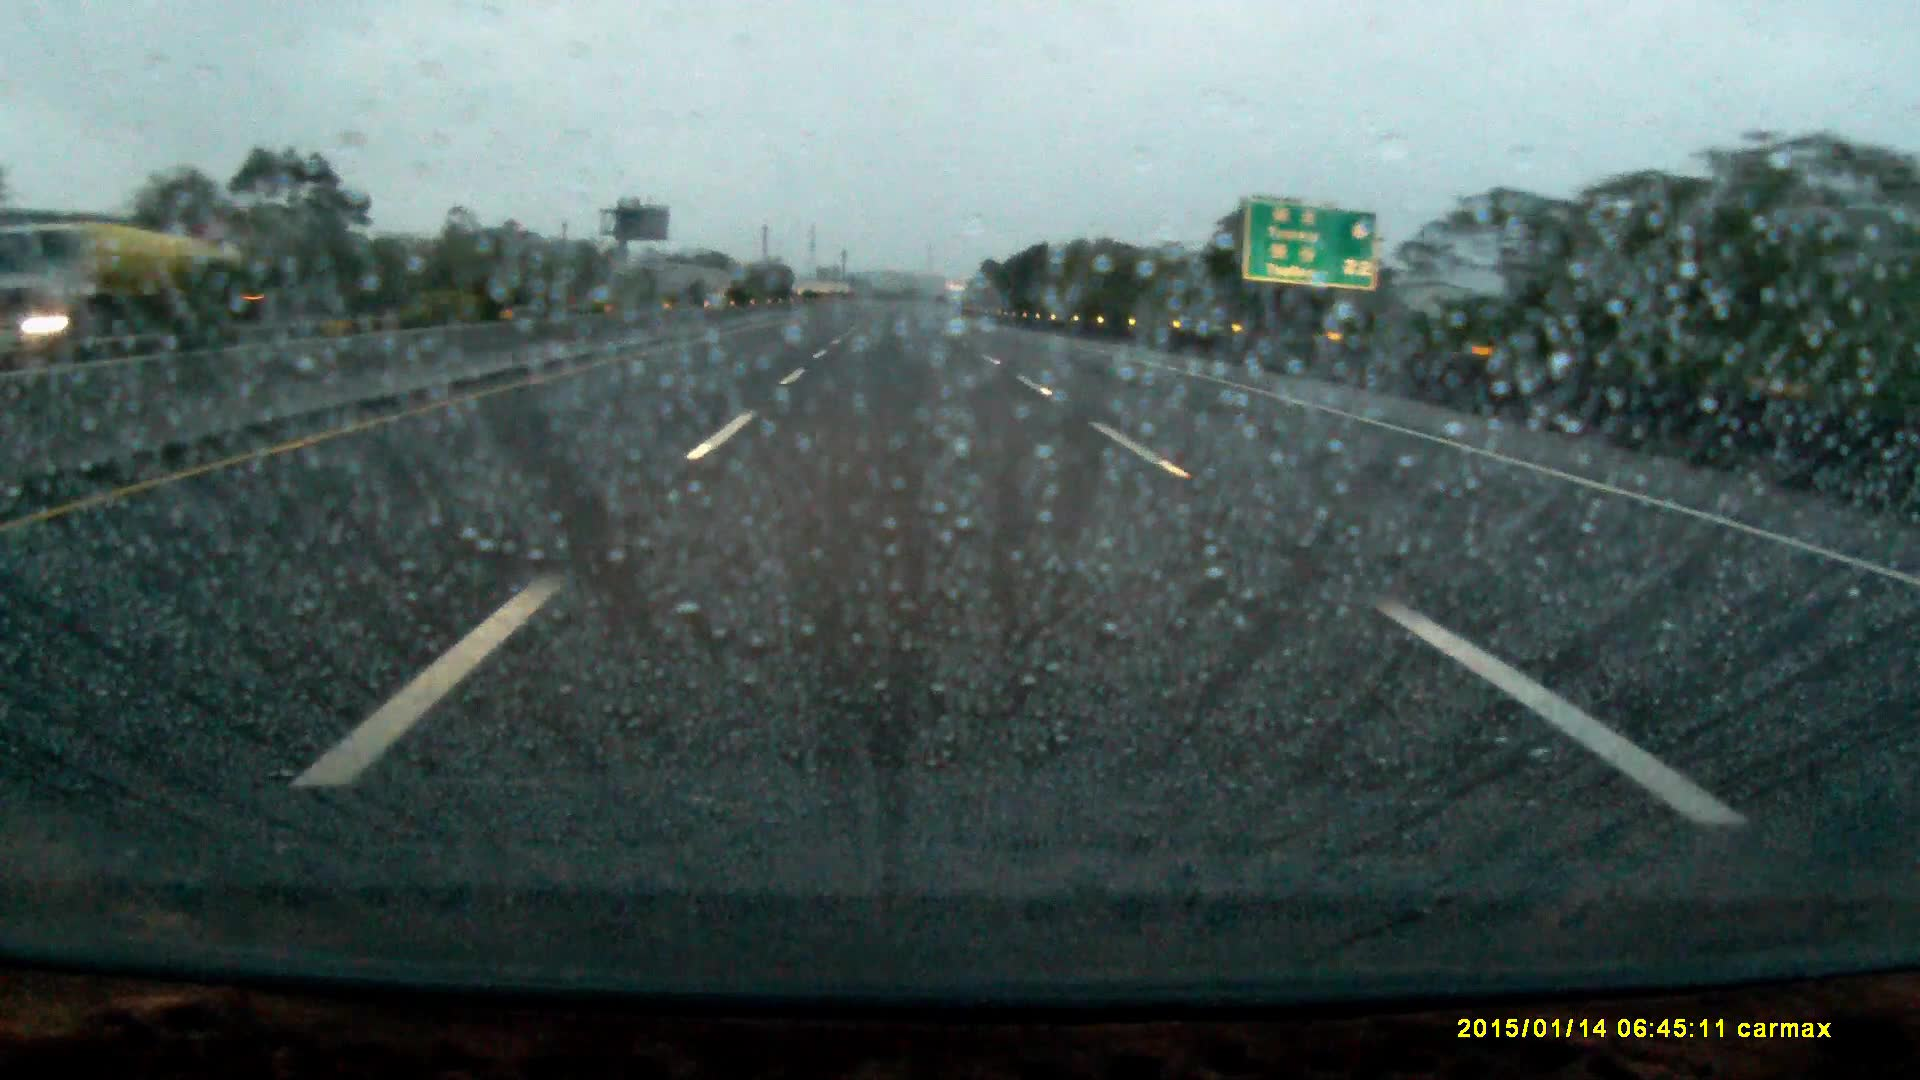vehicle: (38, 233, 241, 332)
